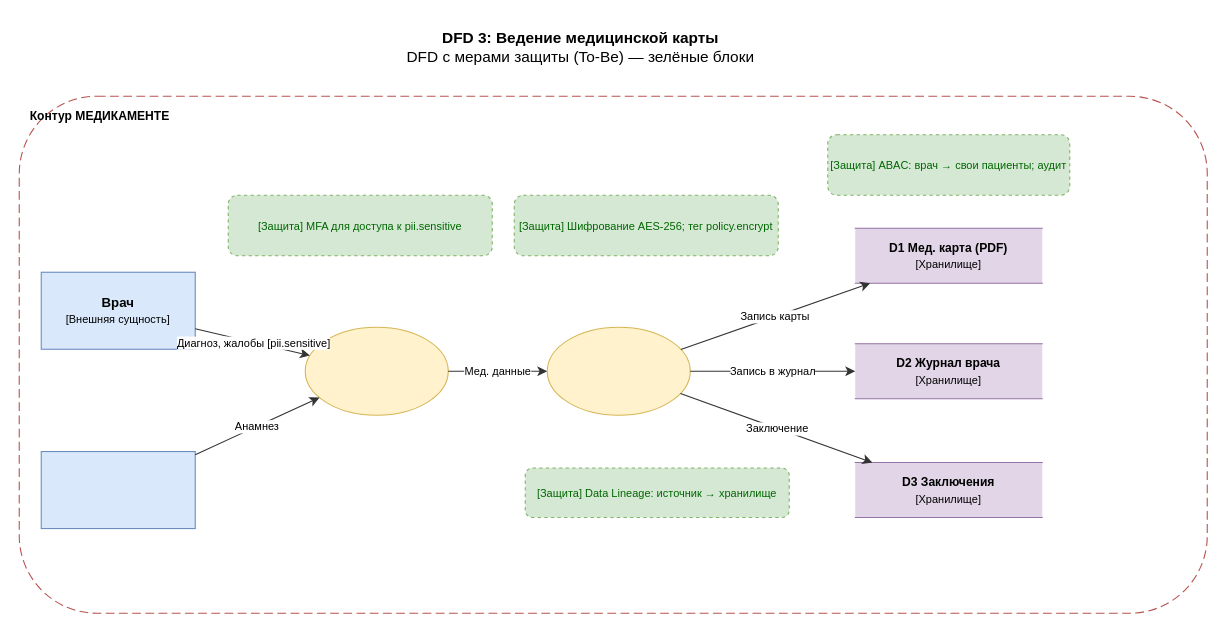
This 1227x633 diagram has some shape labels left out. The centre of each missing label's shape, as x and y in pixels:
"1.0 Приём и осмотр" goes at point (376, 370).
"2.0 Сохранение мед. данных" goes at point (618, 370).
"Пациент [Внешняя сущность]" goes at point (117, 489).
